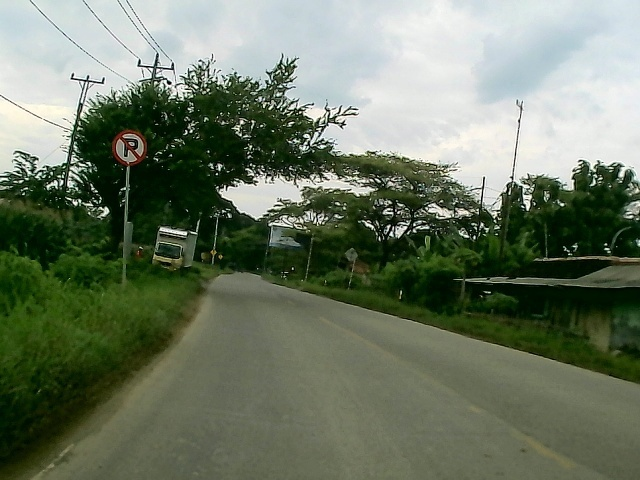Dilarang parkir: (109, 127, 151, 169)
